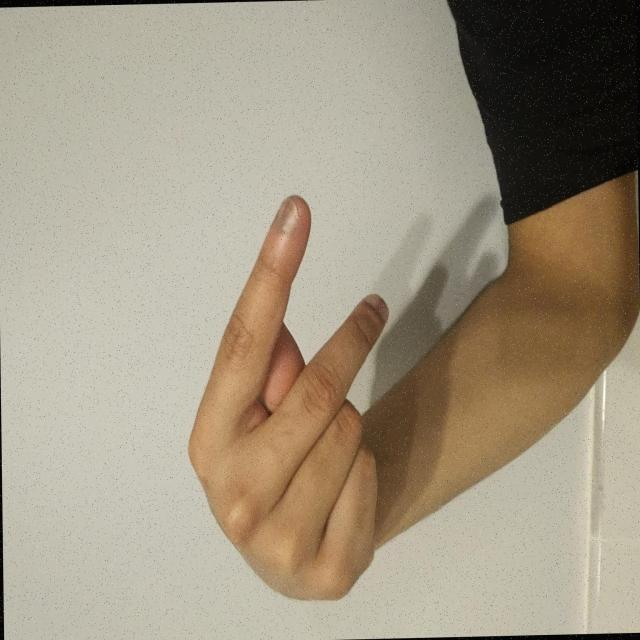Q: (22, 243, 342, 534)
